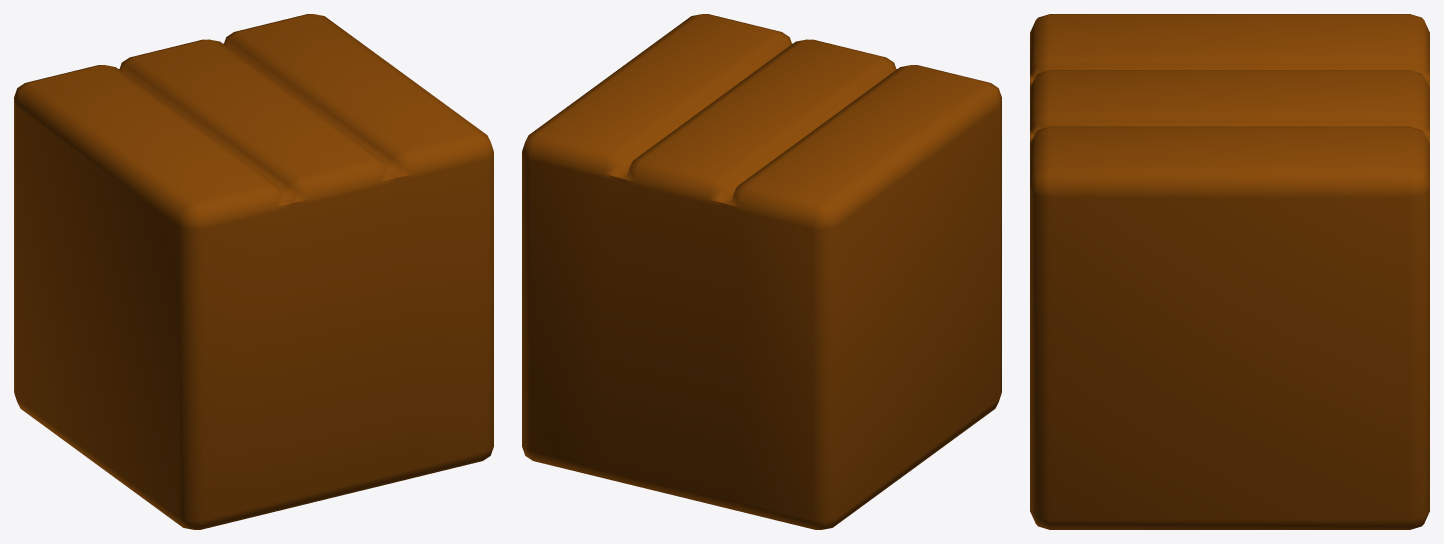
The model's file is 3D_Tile_Farm_Field_01.fbx.
3 views of the same model, side by side, from view 1: azimuth 30°, elevation 25°; view 2: azimuth 150°, elevation 25°; view 3: azimuth 270°, elevation 25° (orthographic). The views are drawn at different scales.
Visible parts, largest first — view 1: 3D_Tile_Farm_Field_01; view 2: 3D_Tile_Farm_Field_01; view 3: 3D_Tile_Farm_Field_01.
Part boxes in pixels (box(x1,y1,x2,y2)): 3D_Tile_Farm_Field_01: box(14, 14, 493, 529); 3D_Tile_Farm_Field_01: box(522, 14, 1001, 529); 3D_Tile_Farm_Field_01: box(1030, 14, 1429, 529).
Size of the model in its own units: 200 by 200 by 200.
